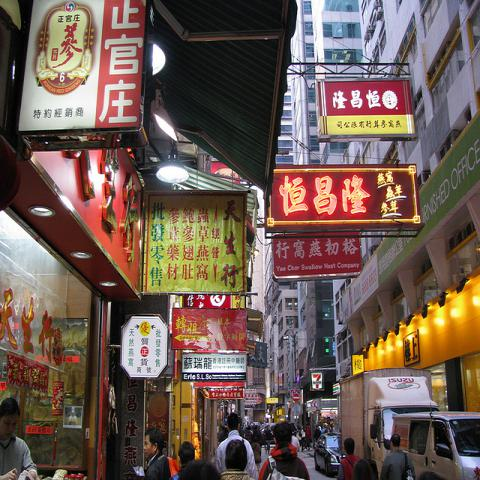car: (312, 430, 344, 474)
truck: (338, 369, 480, 479)
